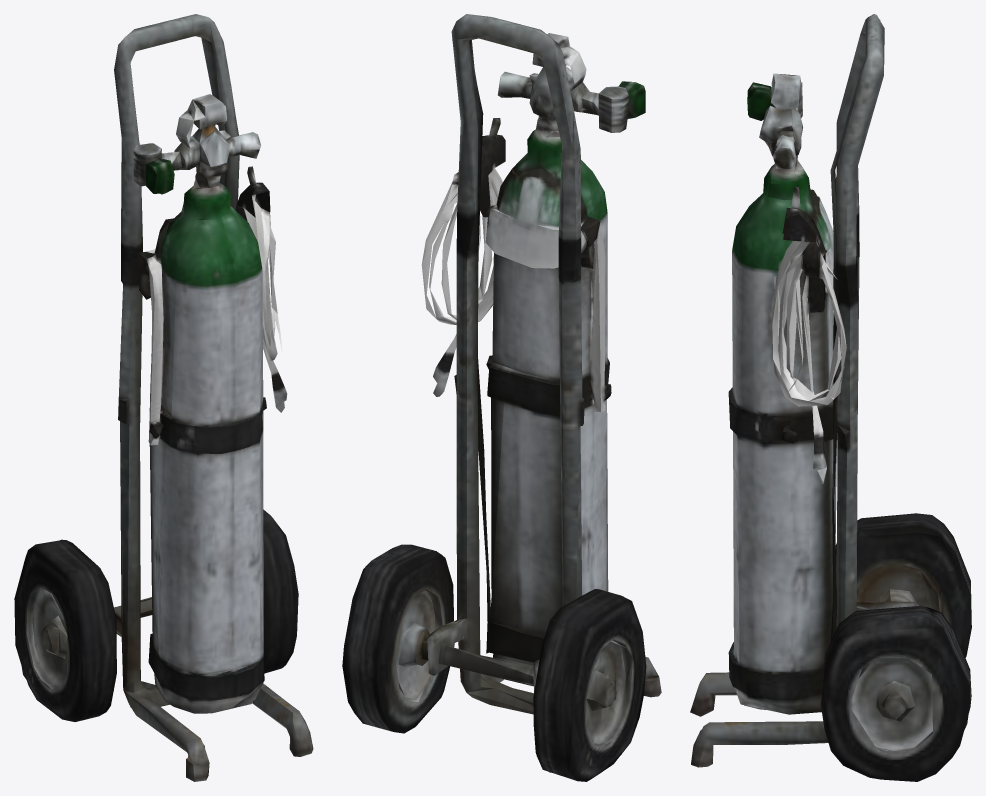
File: p7-oxygen-cart.glb
The picture shows the model from 3 angles, left to right: view 1: azimuth 30°, elevation 25°; view 2: azimuth 150°, elevation 25°; view 3: azimuth 270°, elevation 25°; orthographic projection. The views are drawn at different scales.
Parts seen in each view (by area): view 1: p7-oxygen-cart; view 2: p7-oxygen-cart; view 3: p7-oxygen-cart.
Part boxes in pixels (left/top/right/bottom): p7-oxygen-cart: left=14, top=14, right=313, bottom=781; p7-oxygen-cart: left=342, top=14, right=661, bottom=781; p7-oxygen-cart: left=690, top=14, right=971, bottom=781.
Size of the model in its own units: 0.3895 by 1.15 by 0.415.
1 material, 1 textured.
